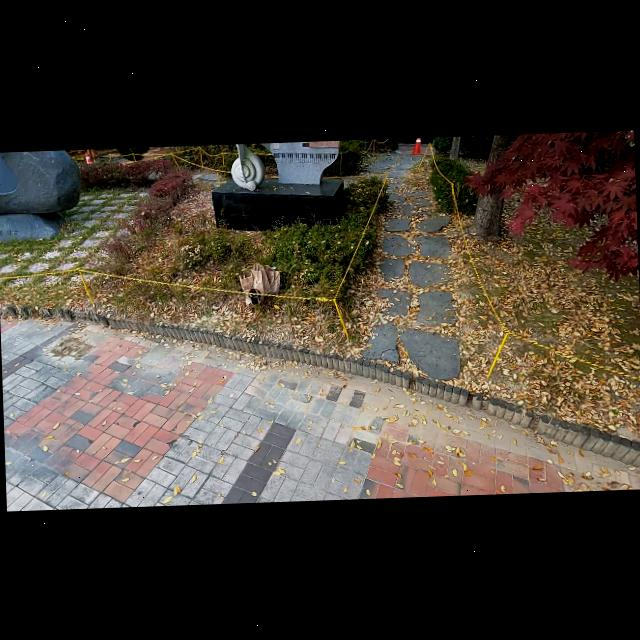trash: (258, 262, 283, 297), (248, 262, 272, 294), (242, 283, 264, 308), (238, 268, 254, 292)
